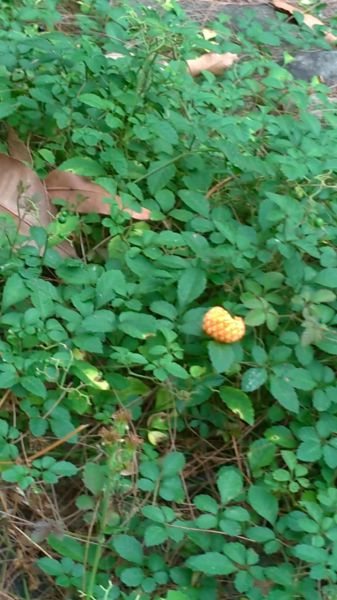eggs: (198, 298, 250, 350)
